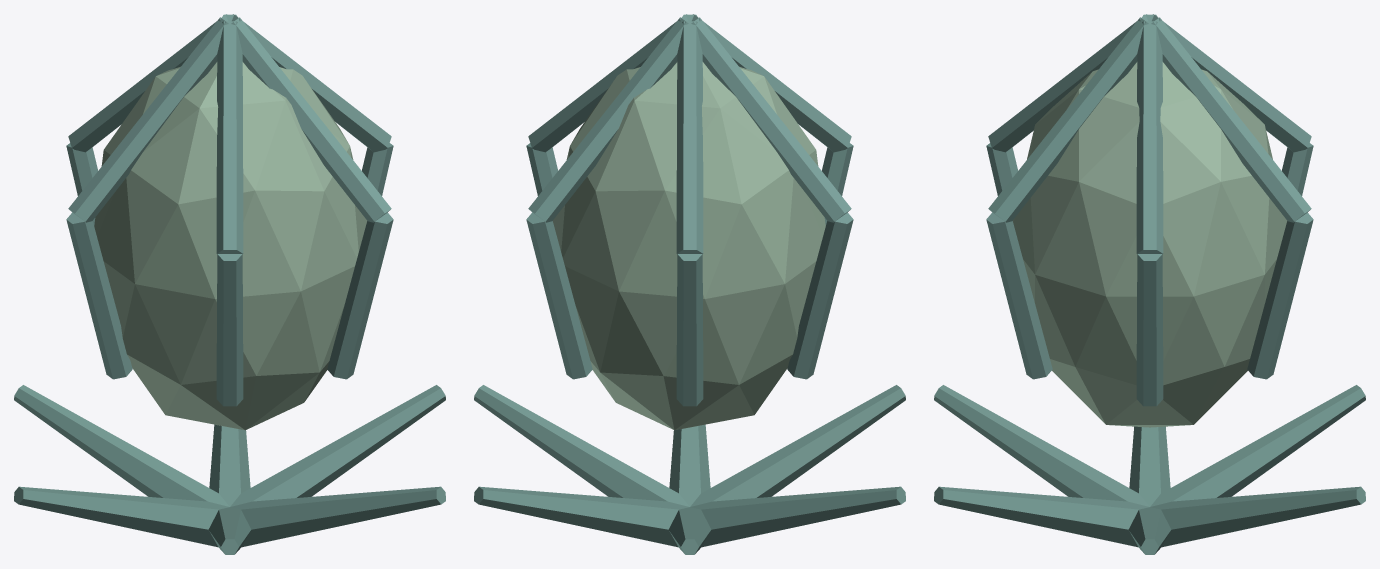
Rendered from map-exclusive-v3__tide_06.glb.
3 views of the same model, side by side, from view 1: azimuth 30°, elevation 25°; view 2: azimuth 150°, elevation 25°; view 3: azimuth 270°, elevation 25° (orthographic).
Visible parts, largest first — view 1: tide_06; view 2: tide_06; view 3: tide_06.
Boxes of the visible parts, x1,y1,x2,y2 form: tide_06: [14, 14, 445, 554]; tide_06: [474, 14, 905, 554]; tide_06: [934, 14, 1365, 554].
Size of the model in its own units: 1.36 by 1.59 by 1.19.
